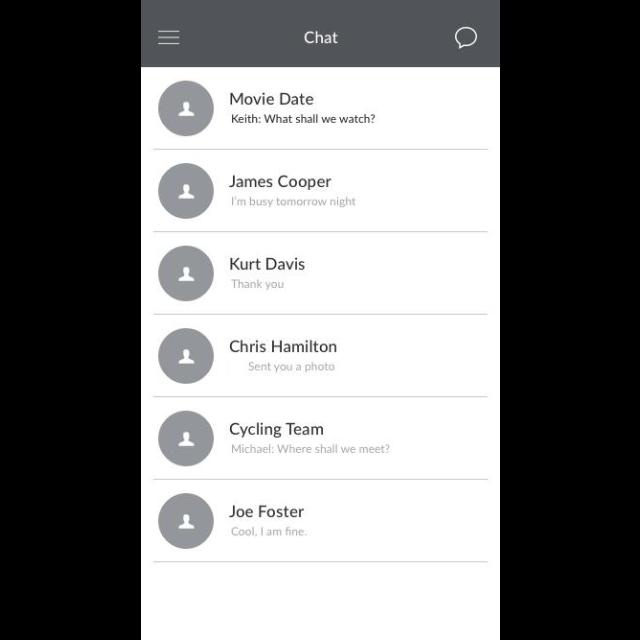icon: (158, 81, 214, 137), (158, 328, 214, 384), (158, 411, 214, 467), (158, 164, 214, 218), (159, 247, 215, 301), (159, 494, 215, 548), (454, 26, 478, 49), (157, 30, 180, 46)
text: (228, 175, 332, 191), (232, 444, 392, 454), (232, 114, 376, 125), (229, 422, 323, 438), (232, 196, 356, 208), (229, 340, 337, 352), (230, 257, 306, 271), (228, 504, 304, 518), (229, 94, 313, 106), (249, 362, 337, 372), (232, 526, 306, 536), (232, 280, 284, 290), (304, 32, 338, 44)
toolbar: (141, 1, 499, 68)
